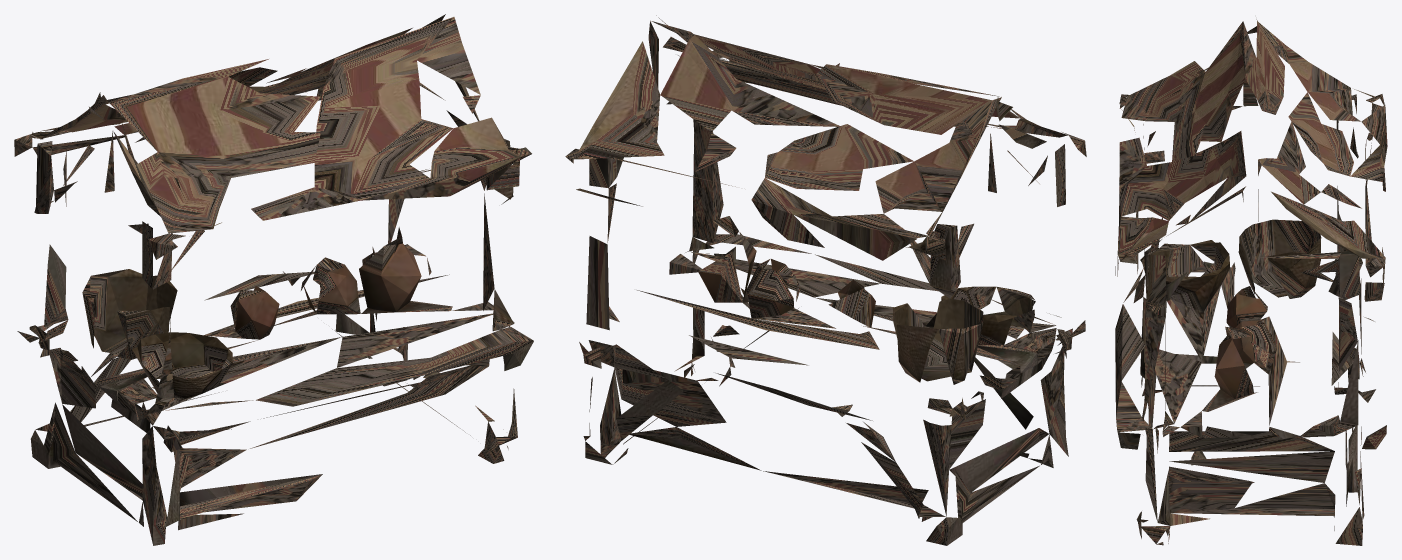
File: prp_stall_market_a_LOD1.glb
3 renders of one model, left to right at view 1: azimuth 30°, elevation 25°; view 2: azimuth 150°, elevation 25°; view 3: azimuth 270°, elevation 25°, orthographic. The views are drawn at different scales.
Parts seen in each view (by area): view 1: geometry_0; view 2: geometry_0; view 3: geometry_0.
Part boxes in pixels (x1,y1,x2,y2): geometry_0: (14,14,533,545); geometry_0: (565,15,1086,545); geometry_0: (1115,19,1387,545).
Size of the model in its own units: 2.55 by 2.6 by 1.72.
1 material, 1 textured.
